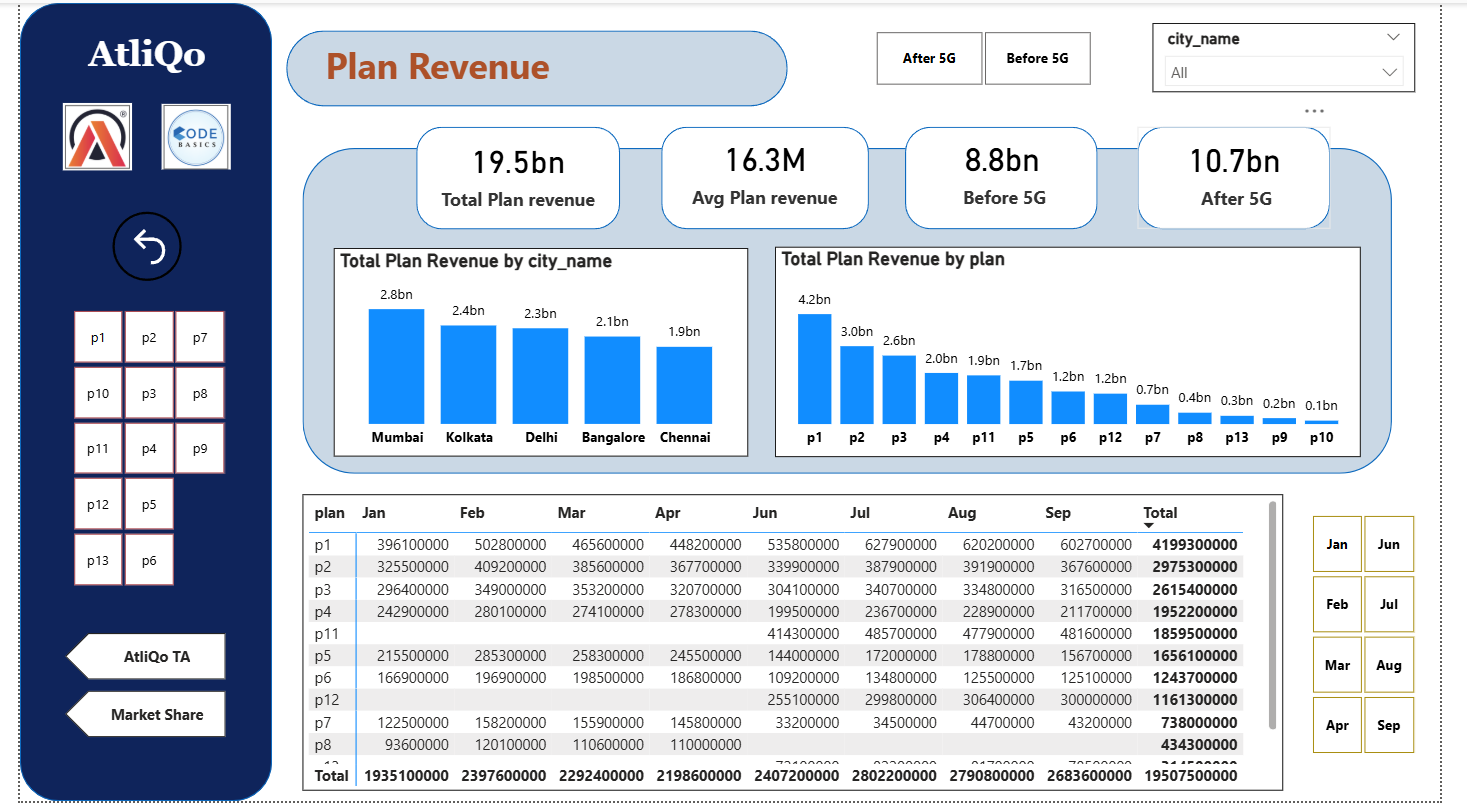

Layout of this report page (visuals, bound fields, positions):
{"tool":"powerbi","page":{"name":"Plan Revenue","canvas":[1280,720],"ordinal":4},"visuals":[{"type":"shape","box":[0,0,227.4,720],"z":0},{"type":"slicer","fields":{"Values":["fact_plan_revenue.plan"]},"box":[22,270.2,185.8,261.6],"z":1000},{"type":"slicer","fields":{"Values":["dim_cities.city_name"]},"box":[1020.7,18.3,237.1,62.3],"z":2000},{"type":"slicer","fields":{"Values":["dim_date.before/after_5g"]},"box":[745.7,19.6,243.3,61.1],"z":3000},{"type":"pivotTable","fields":{"Columns":["dim_date.month_name"],"Values":["Sum(fact_plan_revenue.Plan Revenue CTR)"],"Rows":["fact_plan_revenue.plan"]},"box":[255,442.5,883.8,267.5],"z":4000},{"type":"slicer","fields":{"Values":["dim_date.month_name"]},"box":[1138.8,455,141.2,227.5],"z":5000},{"type":"shape","box":[255,131.2,982.5,293.8],"z":6000},{"type":"shape","box":[357.5,111.2,183.8,92.5],"z":7000},{"type":"card","fields":{"Values":["Market & Plan.Total Plan revenue"]},"box":[367.5,111.2,163.8,81.2],"z":8000},{"type":"shape","box":[577.5,111.2,187.5,92.5],"z":9000},{"type":"shape","box":[797.5,111.2,173.8,92.5],"z":10000},{"type":"shape","box":[1007.5,111.2,173.8,92.5],"z":11000},{"type":"card","fields":{"Values":["Table.Total Plan Revenue Before 5G"]},"box":[807.5,106.2,155,88.8],"z":12000},{"type":"card","fields":{"Values":["Table.Total Plan Revenue After 5G"]},"box":[1005,111.2,178.8,80],"z":13000},{"type":"card","fields":{"Values":["Market & Plan.Avg Plan revenue"]},"box":[581.2,106.2,180,88.8],"z":14000},{"type":"shape","box":[83.1,188.3,62.3,62.3],"z":15000},{"type":"actionButton","box":[95.3,198,50.1,42.8],"z":16000},{"type":"pageNavigator","box":[40.3,568.4,145.5,95],"z":17000},{"type":"shape","box":[239.6,24.4,452.3,68.5],"z":18000},{"type":"textbox","box":[270.2,29.3,401,58.7],"z":19000},{"type":"clusteredColumnChart","title":"Total Plan Revenue by city_name","fields":{"Category":["dim_cities.city_name"],"Y":["Market & Plan.Total Plan revenue"]},"box":[282.7,220.9,373.2,188],"z":20000},{"type":"clusteredColumnChart","title":"Total Plan Revenue by plan","fields":{"Category":["dim_plan.plan"],"Y":["Market & Plan.Total Plan revenue"]},"box":[680.6,219.6,528.3,189.4],"z":21000},{"type":"image","box":[33.8,84.4,72,72.4],"z":22000},{"type":"image","box":[123,84.4,72,72.4],"z":23000},{"type":"textbox","box":[56.7,22.9,130.3,54.3],"z":24000}]}

Visuals, with their boxes in screenshot pixels (x1, y1, x2, y2), scaled from the page's 1280x720 canvas onto the 1467x806 screenshot:
shape: <bbox>0, 0, 261, 805</bbox>
slicer - fact_plan_revenue.plan: <bbox>25, 302, 238, 595</bbox>
slicer - dim_cities.city_name: <bbox>1170, 20, 1442, 90</bbox>
slicer - dim_date.before/after_5g: <bbox>855, 22, 1133, 90</bbox>
pivotTable - dim_date.month_name x Sum(fact_plan_revenue.Plan Revenue CTR): <bbox>292, 495, 1305, 795</bbox>
slicer - dim_date.month_name: <bbox>1305, 509, 1466, 764</bbox>
shape: <bbox>292, 147, 1418, 476</bbox>
shape: <bbox>410, 124, 620, 228</bbox>
card - Market & Plan.Total Plan revenue: <bbox>421, 124, 609, 215</bbox>
shape: <bbox>662, 124, 877, 228</bbox>
shape: <bbox>914, 124, 1113, 228</bbox>
shape: <bbox>1155, 124, 1354, 228</bbox>
card - Table.Total Plan Revenue Before 5G: <bbox>925, 119, 1103, 218</bbox>
card - Table.Total Plan Revenue After 5G: <bbox>1152, 124, 1357, 214</bbox>
card - Market & Plan.Avg Plan revenue: <bbox>666, 119, 872, 218</bbox>
shape: <bbox>95, 211, 167, 281</bbox>
actionButton: <bbox>109, 222, 167, 270</bbox>
pageNavigator: <bbox>46, 636, 213, 743</bbox>
shape: <bbox>275, 27, 793, 104</bbox>
textbox: <bbox>310, 33, 769, 99</bbox>
"Total Plan Revenue by city_name" clusteredColumnChart: <bbox>324, 247, 752, 458</bbox>
"Total Plan Revenue by plan" clusteredColumnChart: <bbox>780, 246, 1386, 458</bbox>
image: <bbox>39, 94, 121, 176</bbox>
image: <bbox>141, 94, 223, 176</bbox>
textbox: <bbox>65, 26, 214, 86</bbox>
